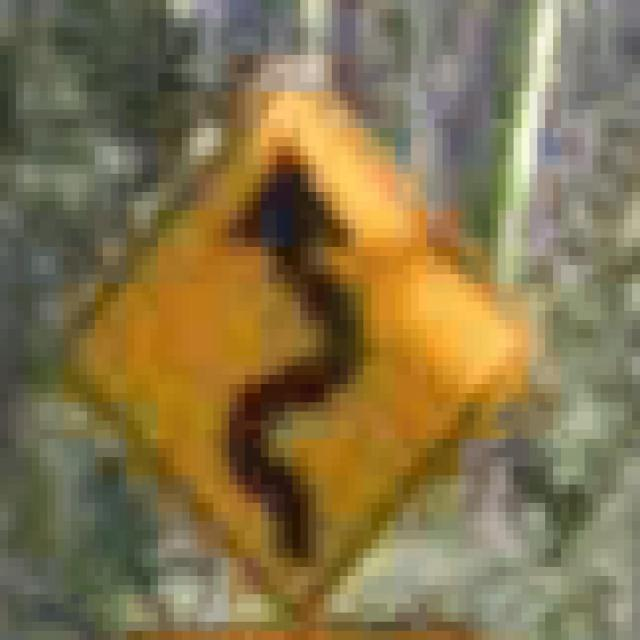Banyak Tikungan Pertama Kiri: (40, 46, 538, 622)
